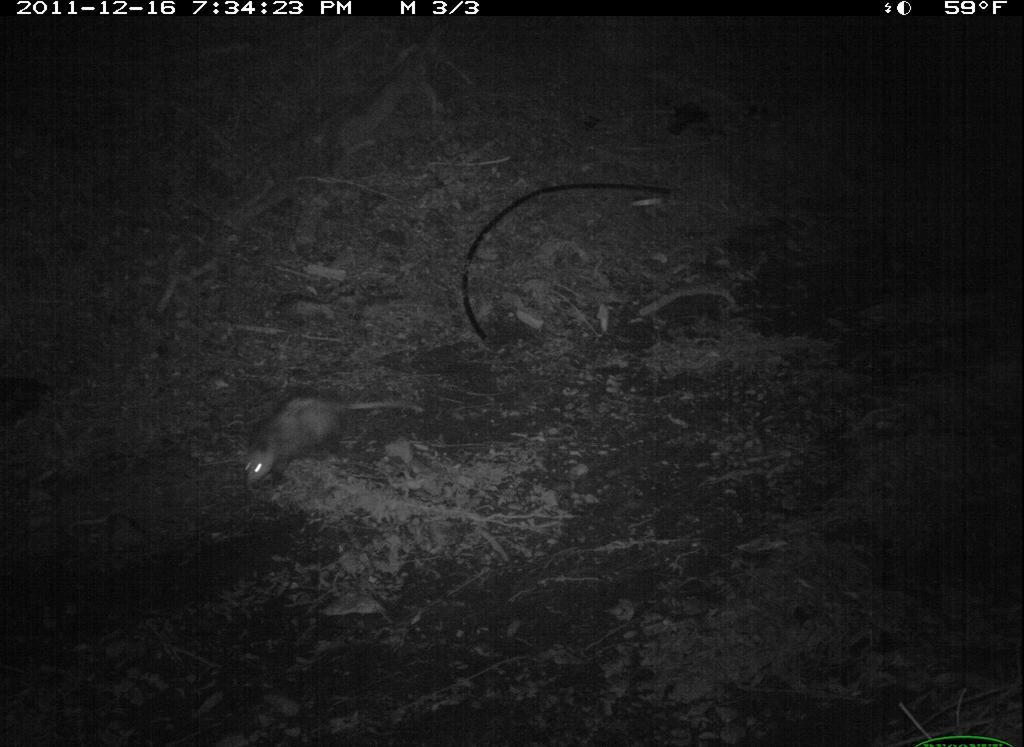opossum: (236, 388, 431, 497)
